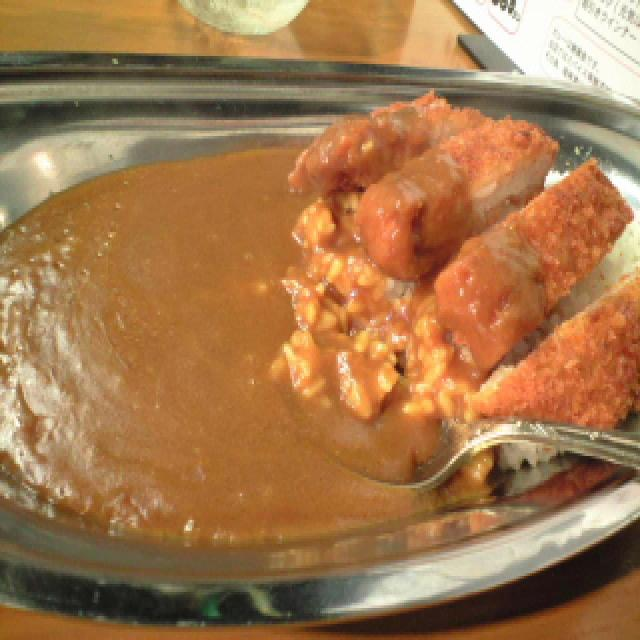猪肉菜式: (0, 32, 640, 624)
